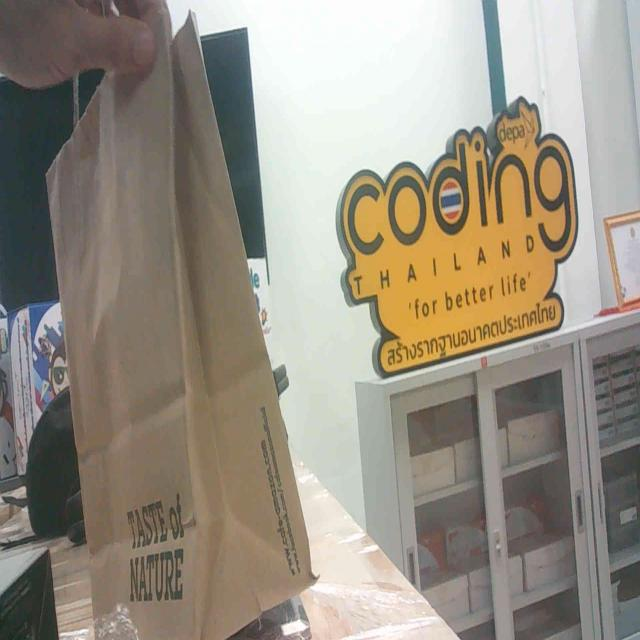bag: (20, 46, 347, 640)
